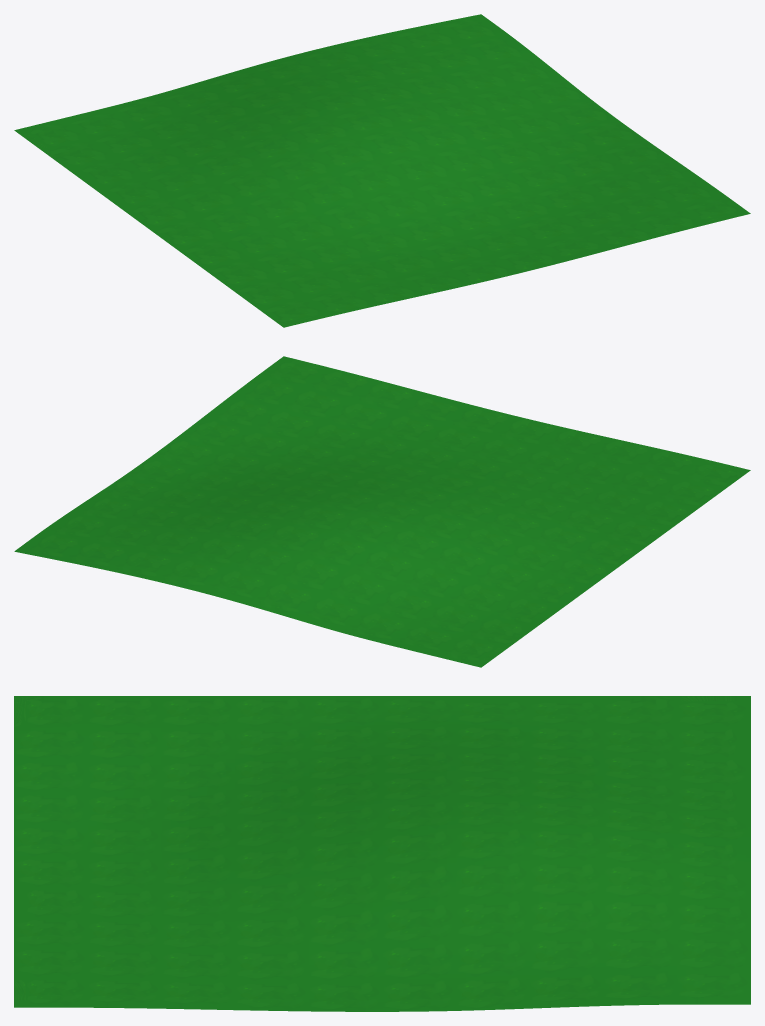
File: grass_land.fbx
The picture shows the model from 3 angles, top to bottom: view 1: azimuth 30°, elevation 25°; view 2: azimuth 150°, elevation 25°; view 3: azimuth 270°, elevation 25°; orthographic projection. The views are drawn at different scales.
Visible parts, largest first — view 1: Plane; view 2: Plane; view 3: Plane.
Part boxes in pixels (box(x1,y1,x2,y2)): Plane: box(14, 14, 750, 327); Plane: box(14, 356, 750, 667); Plane: box(14, 696, 750, 1011).
Size of the model in its own units: 6486 by 297 by 6486.
Materials: 1 (1 with a texture image).
